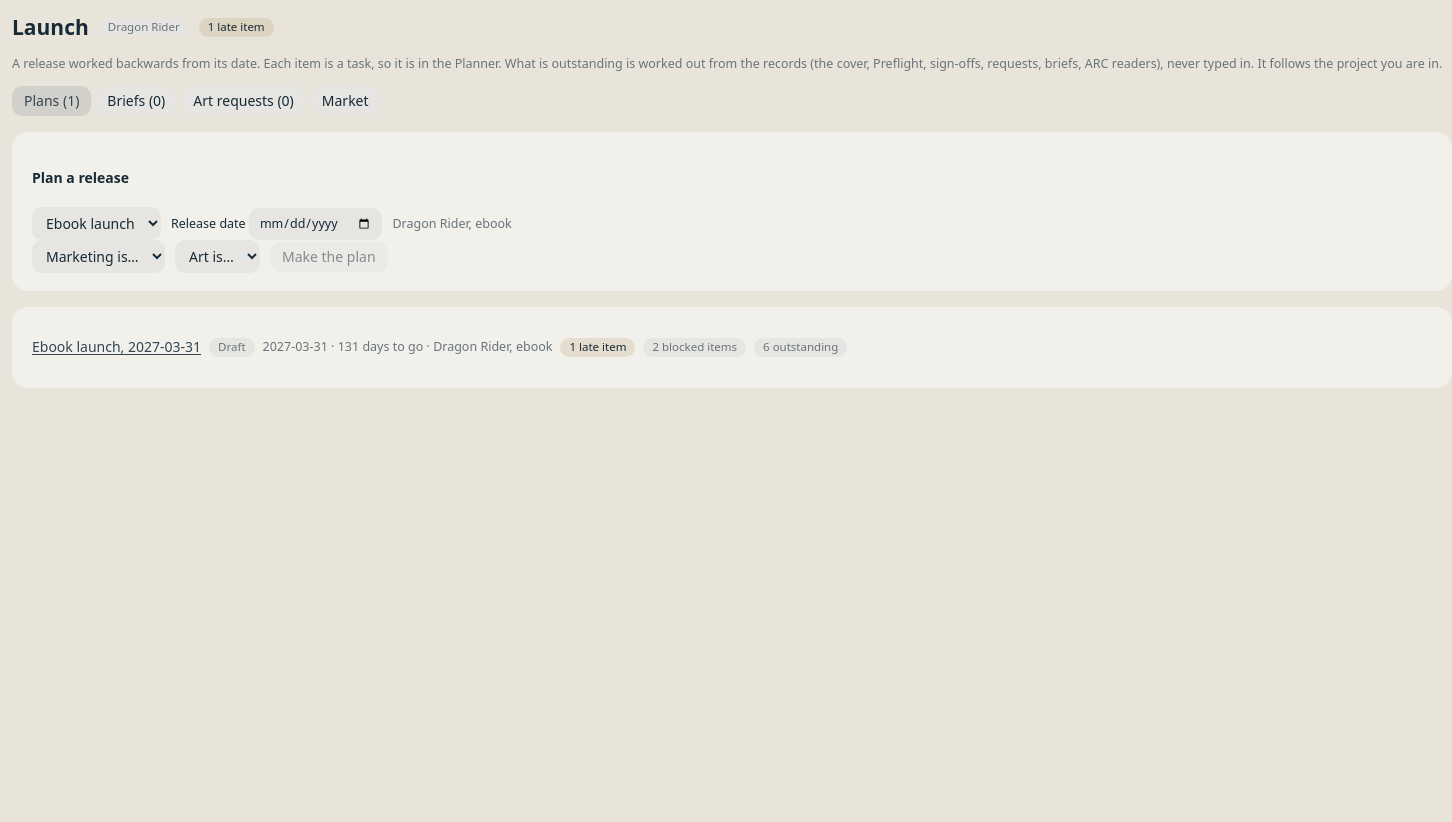
the Launch page › Market: figures with their capture date, publishing from this computer, and what the figures did around a change, with the caveats
Step 1. Click the tab "Market" → [345, 101], box [310,86,381,116]
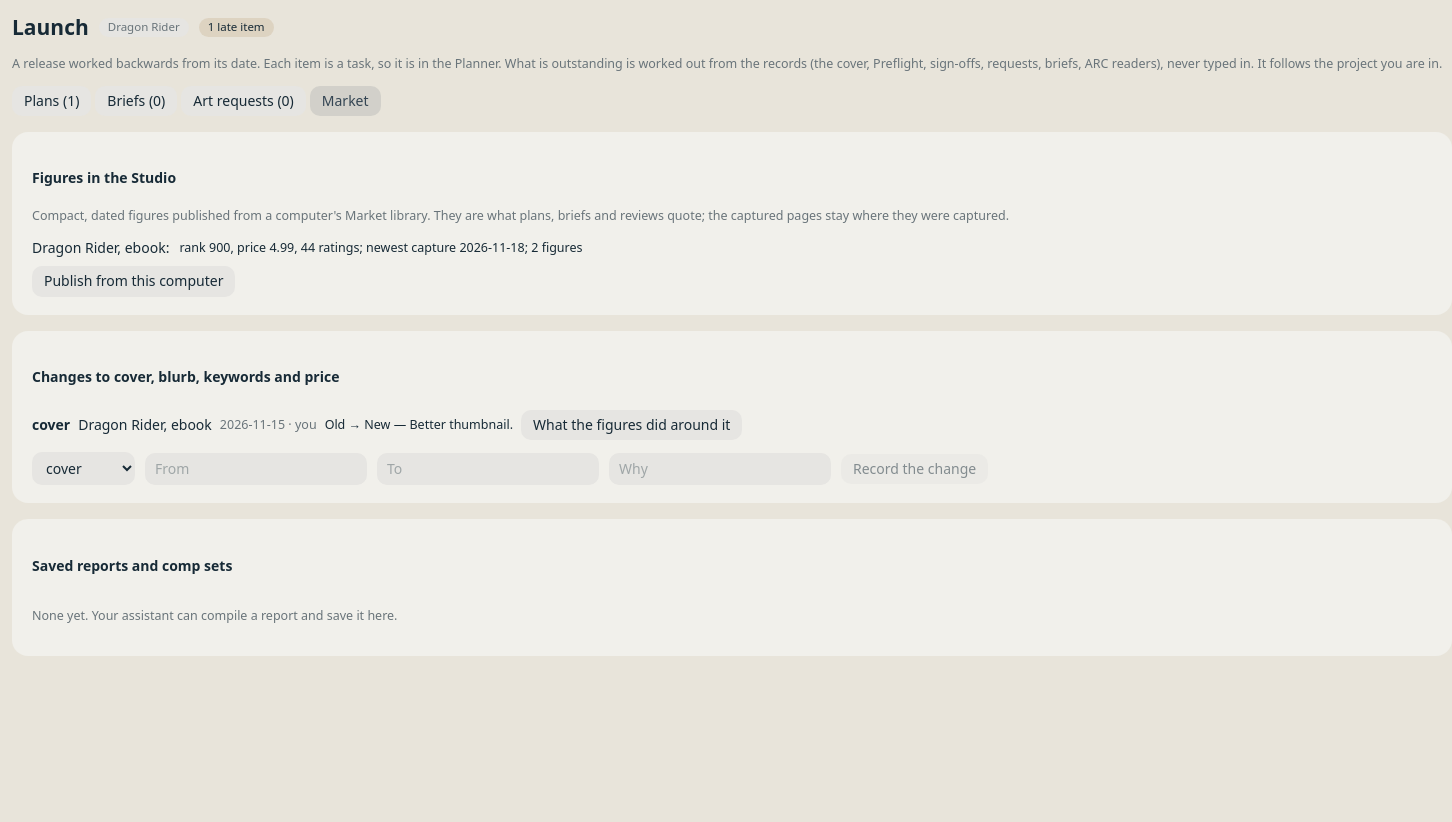
Expected: the text "rank 900, price 4.99, 44 ratings; newest capture 2026-11-18; 2 figures" is shown, [179,239,582,257]
Expected: the button "Publish from this computer" is shown
Step 2. Click the button "Publish from this computer" → [134, 281], box [32,266,235,297]
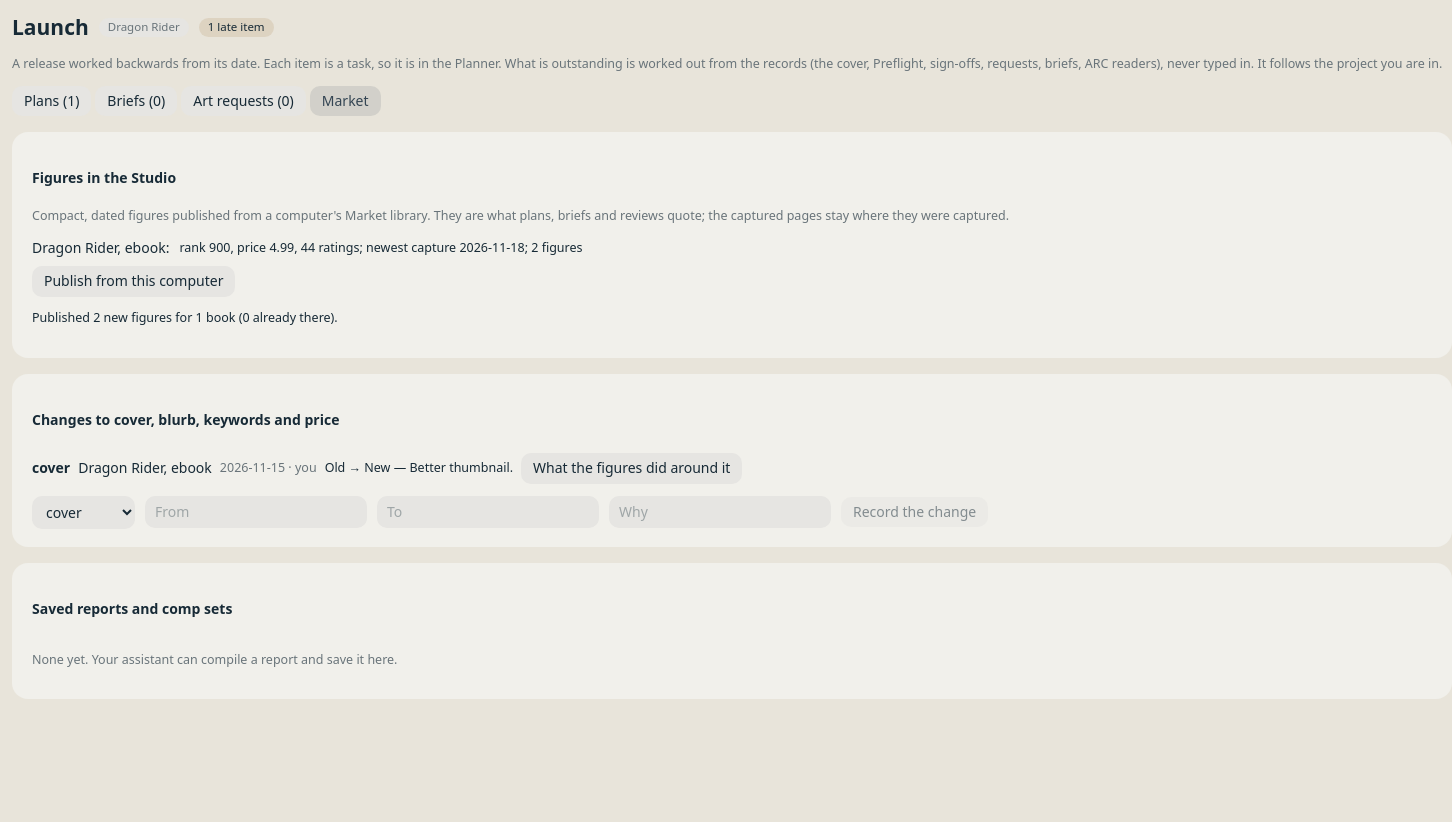
Expected: the button "What the figures did around it" is shown
Expected: the text "Published 2 new figures for 1 book" is shown, [32,309,338,326]
Step 3. Click the button "What the figures did around it" → [632, 468], box [521,453,742,484]
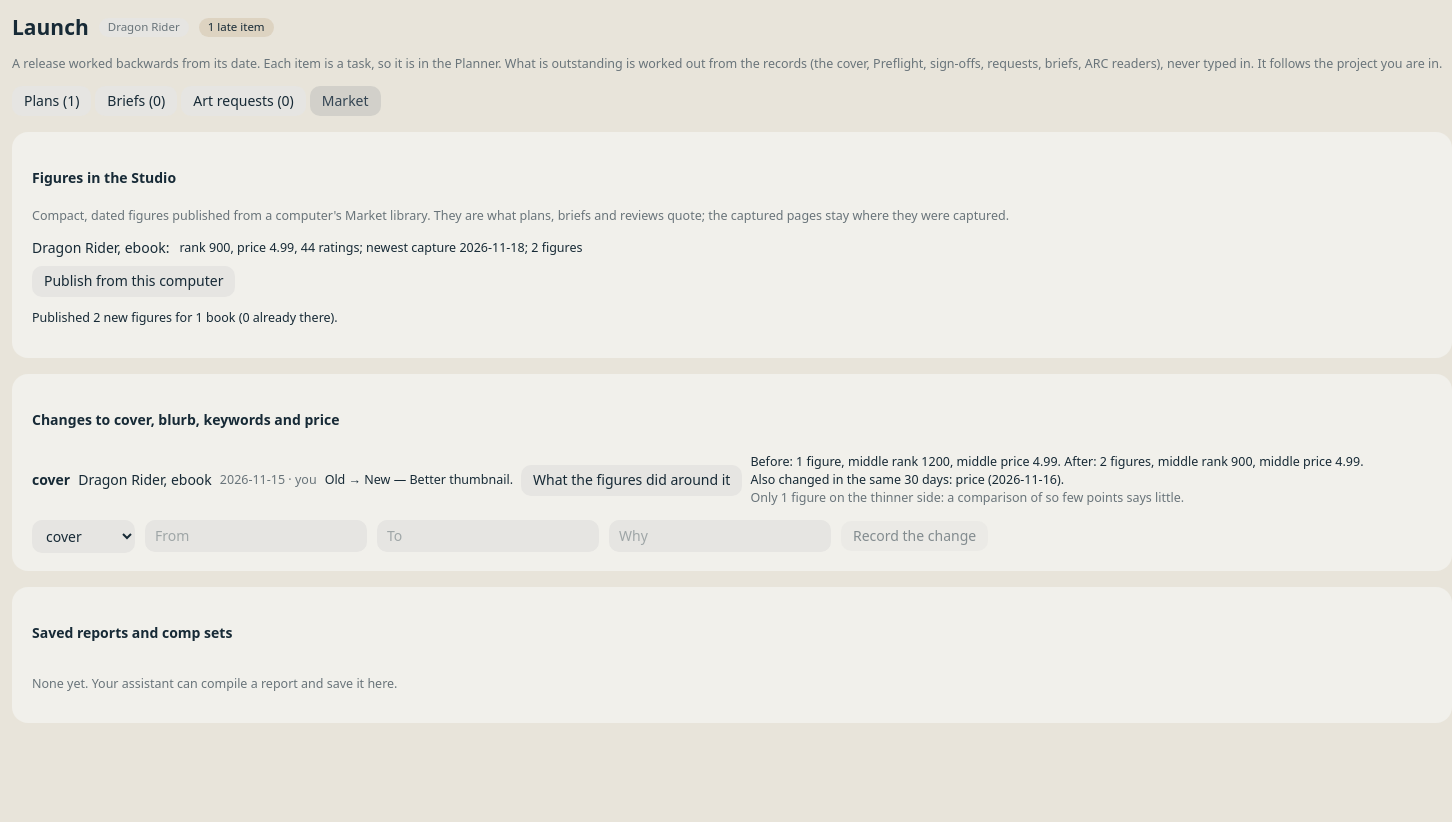
Expected: the text "Before: 1 figure, middle rank 1200" is shown, [750,453,1364,471]
Expected: the text "After: 2 figures, middle rank 900" is shown, [750,453,1364,471]
Expected: the text "Also changed in the same 30 days: price (2026-11-16)" is shown, [750,471,1064,488]
